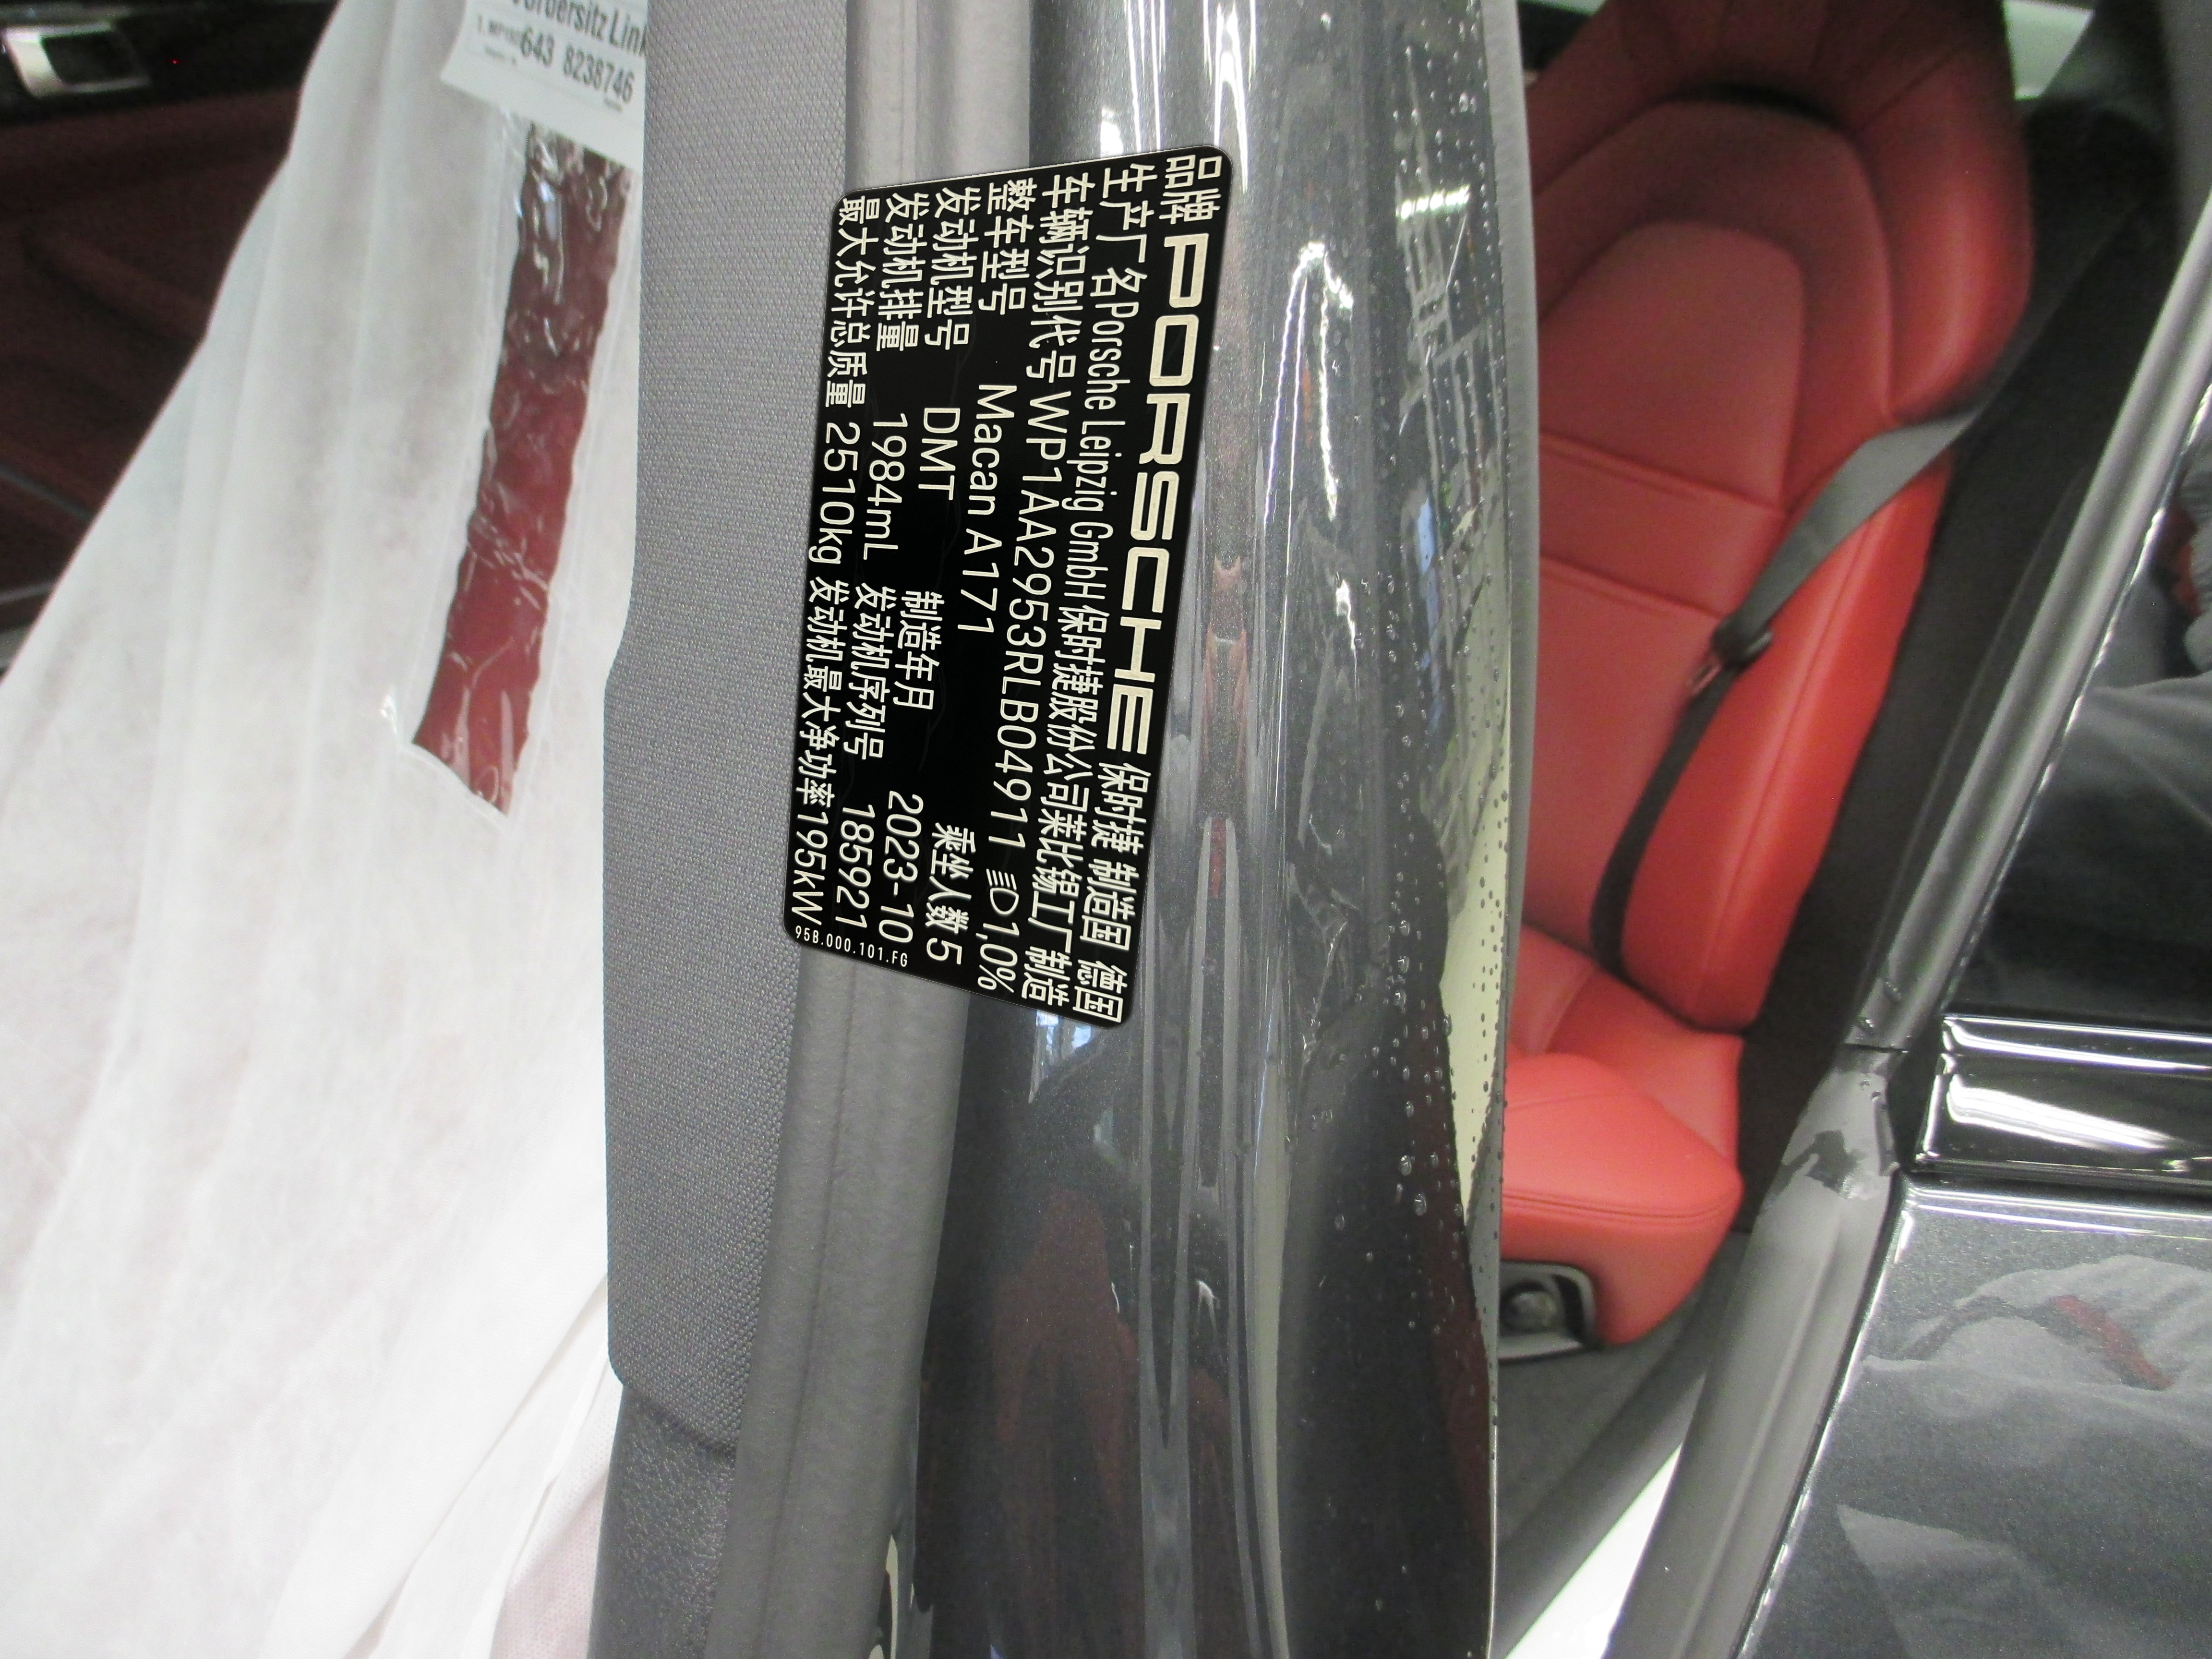Typlabel-China: (782, 145, 1231, 1028)
